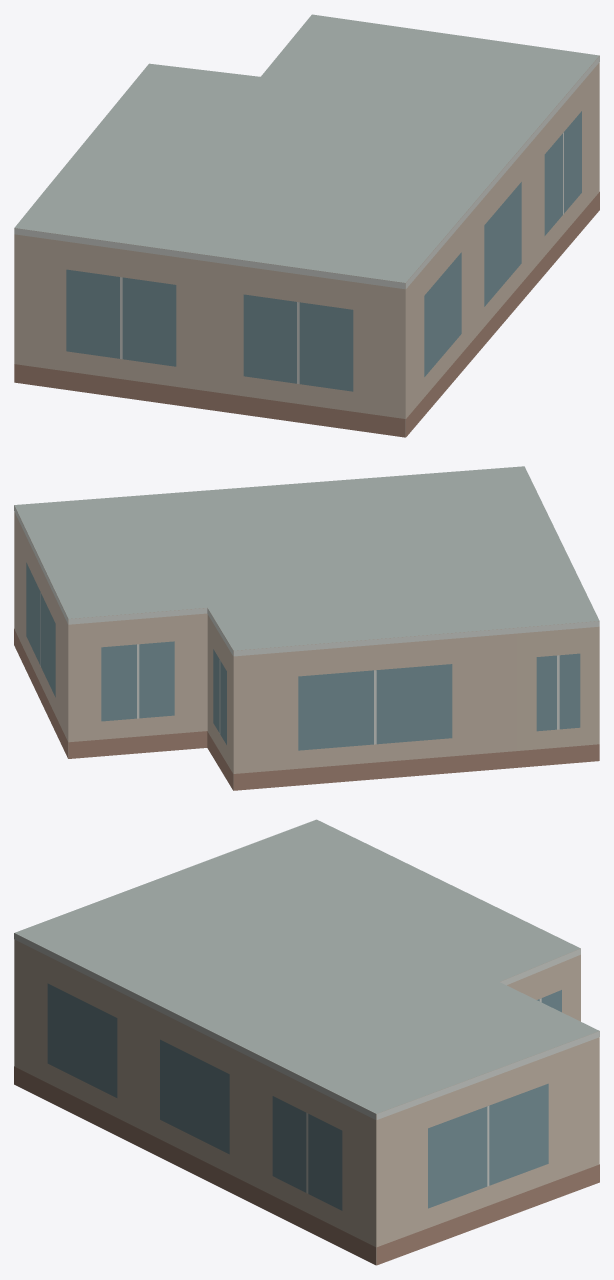
The model's file is survey-upis-32726324.glb.
The picture shows the model from 3 angles, top to bottom: view 1: azimuth 30°, elevation 25°; view 2: azimuth 150°, elevation 25°; view 3: azimuth 270°, elevation 25°; orthographic projection. The views are drawn at different scales.
Parts seen in each view (by area): view 1: survey-upis-32726324.tmp; view 2: survey-upis-32726324.tmp; view 3: survey-upis-32726324.tmp.
Part boxes in pixels (<box>): survey-upis-32726324.tmp: <box>14,14,599,437</box>; survey-upis-32726324.tmp: <box>14,466,599,790</box>; survey-upis-32726324.tmp: <box>14,819,599,1265</box>.
Bounding box in the file's own units: 12.73 × 3.05 × 10.7.
